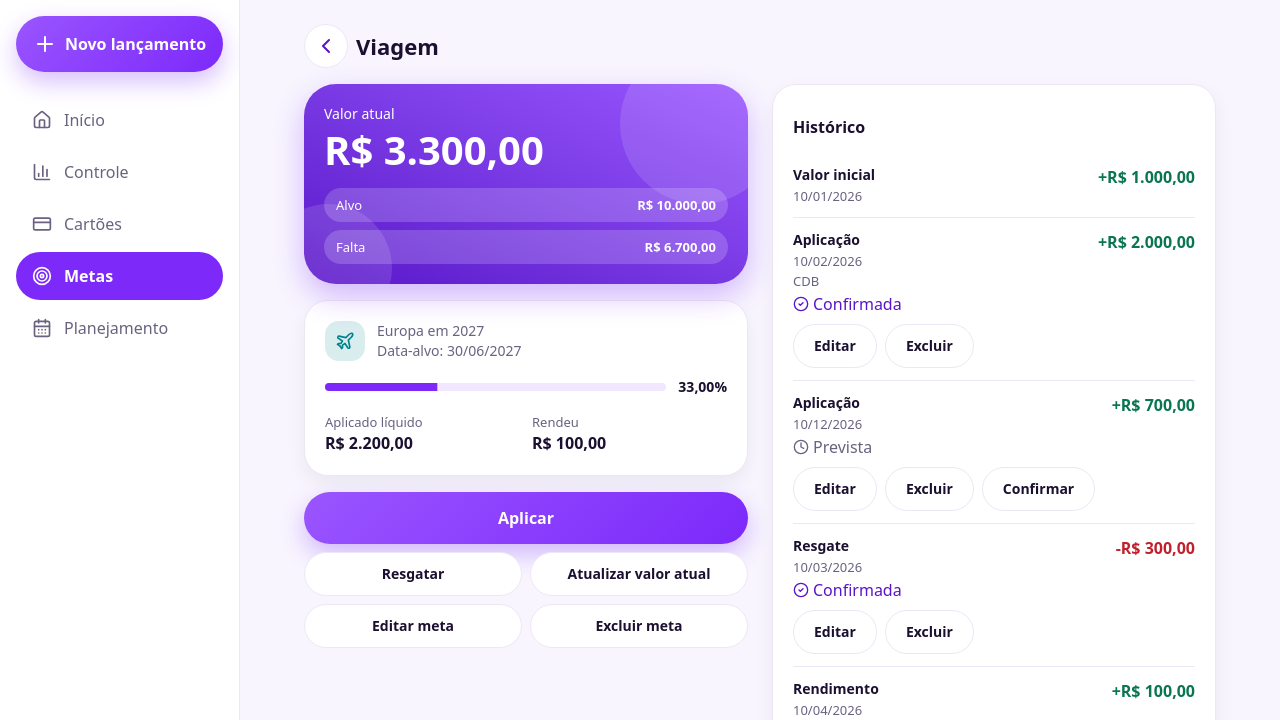
DetalheMeta: indicadores (CA-6.07, CA-6.11) › o link Metas leva de volta à lista
Check: the heading "Viagem" is shown, box left=356, top=31, right=439, bottom=61
// Há dois links "Metas" (voltar e aba da navegação): o de voltar vem primeiro na página.
Click the link "Metas". click: (120, 276)
box: left=16, top=252, right=223, bottom=300
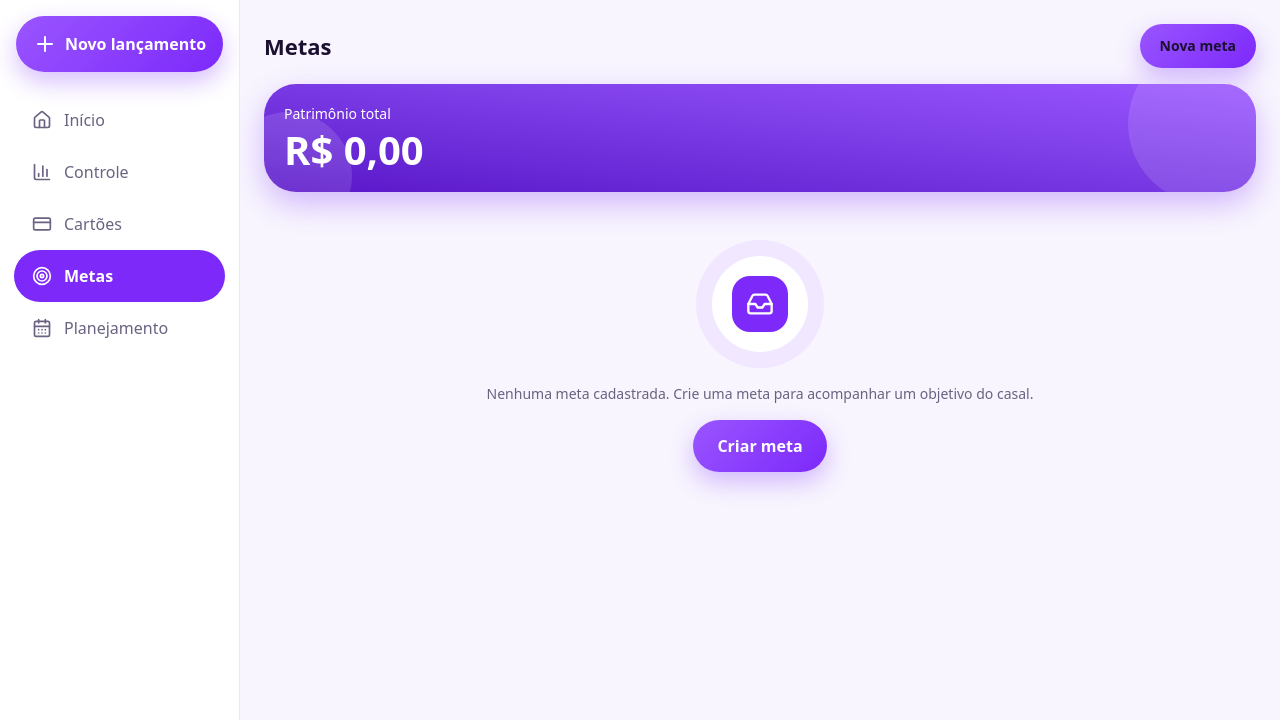
Check: the heading "Metas" is shown, box left=264, top=31, right=332, bottom=61
